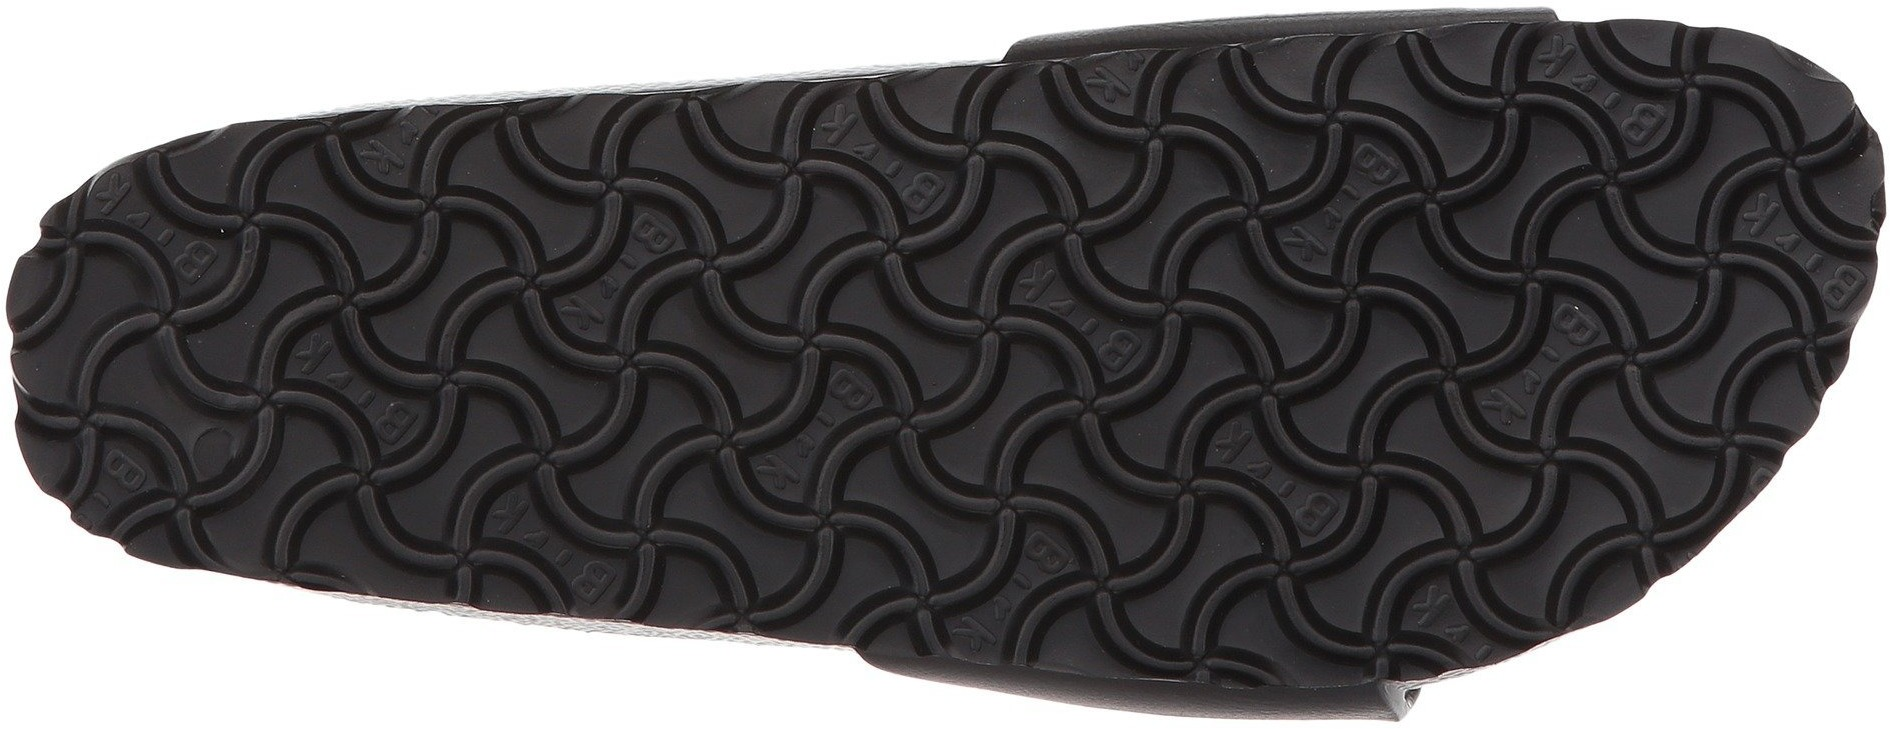bowtie: (323, 127, 767, 592), (1396, 30, 1720, 355), (1131, 361, 1462, 660), (1056, 59, 1389, 354), (777, 361, 1117, 641), (52, 229, 316, 496), (776, 101, 1045, 348), (1474, 358, 1694, 555), (1731, 164, 1873, 293)
text: (323, 127, 767, 592), (1396, 30, 1720, 355), (1131, 361, 1462, 660), (1056, 59, 1389, 354), (777, 361, 1117, 641), (52, 229, 316, 496), (776, 101, 1045, 348), (1474, 358, 1694, 555)
